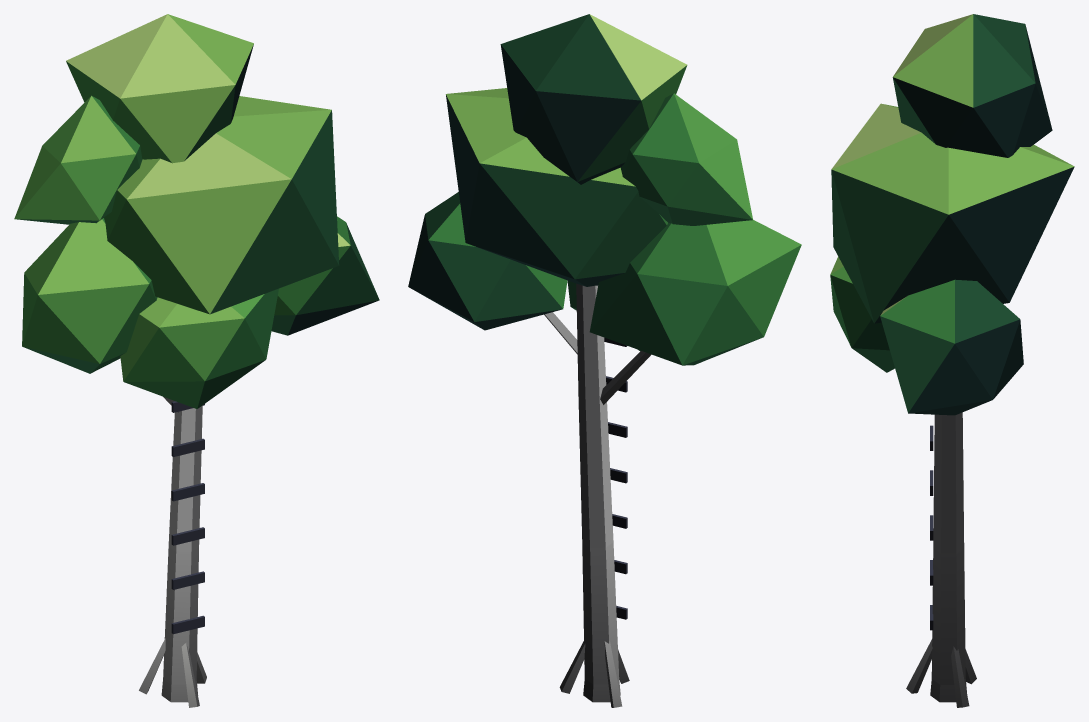
The model's file is tree_birch.glb.
3 renders of one model, left to right at view 1: azimuth 30°, elevation 25°; view 2: azimuth 150°, elevation 25°; view 3: azimuth 270°, elevation 25°, orthographic. The views are drawn at different scales.
Parts seen in each view (by area): view 1: tree_birch; view 2: tree_birch; view 3: tree_birch.
Boxes of the visible parts, x1,y1,x2,y2 form: tree_birch: (14, 14, 379, 707); tree_birch: (408, 14, 801, 707); tree_birch: (830, 14, 1074, 707).
Size of the model in its own units: 1.32 by 2.43 by 0.7909.
